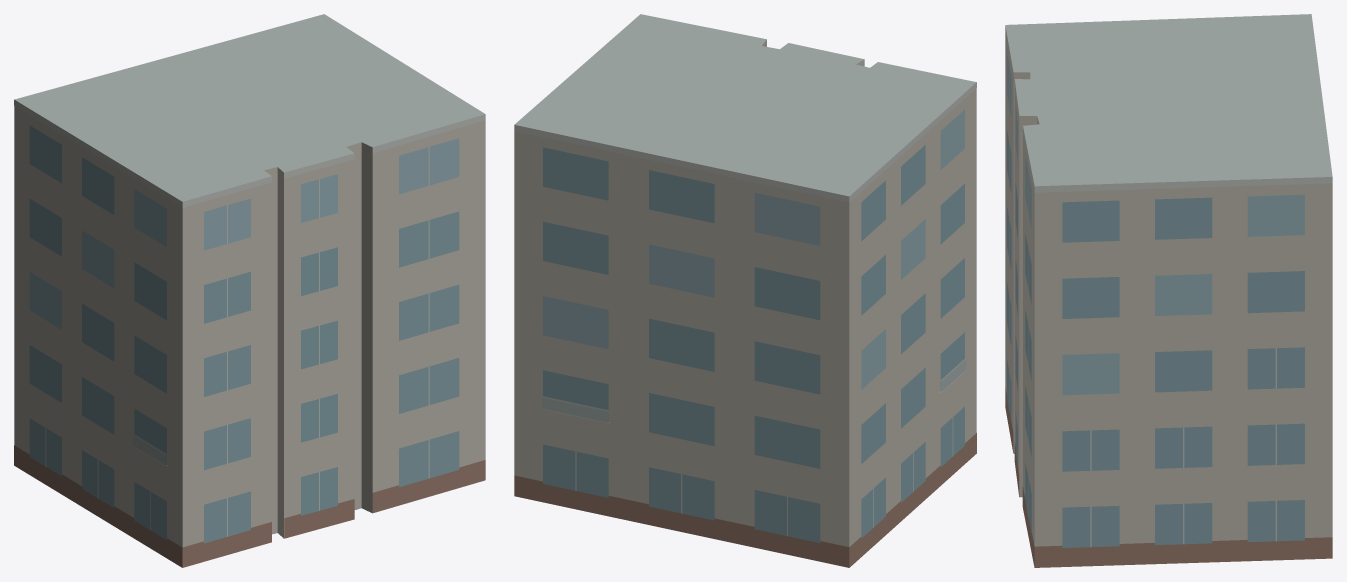
The model's file is survey-upis-33037643.glb.
3 renders of one model, left to right at view 1: azimuth 30°, elevation 25°; view 2: azimuth 150°, elevation 25°; view 3: azimuth 270°, elevation 25°, orthographic. The views are drawn at different scales.
Visible parts, largest first — view 1: survey-upis-33037643.tmp; view 2: survey-upis-33037643.tmp; view 3: survey-upis-33037643.tmp.
Boxes of the visible parts, x1,y1,x2,y2 form: survey-upis-33037643.tmp: (14,14,485,567); survey-upis-33037643.tmp: (514,14,976,567); survey-upis-33037643.tmp: (1005,14,1332,567).
Size of the model in its own units: 14.09 by 14.55 by 11.32.
